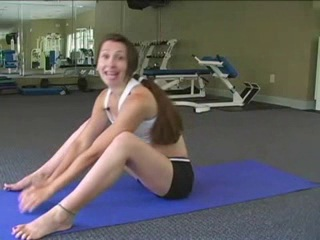sit_up: (1, 42, 188, 226)
